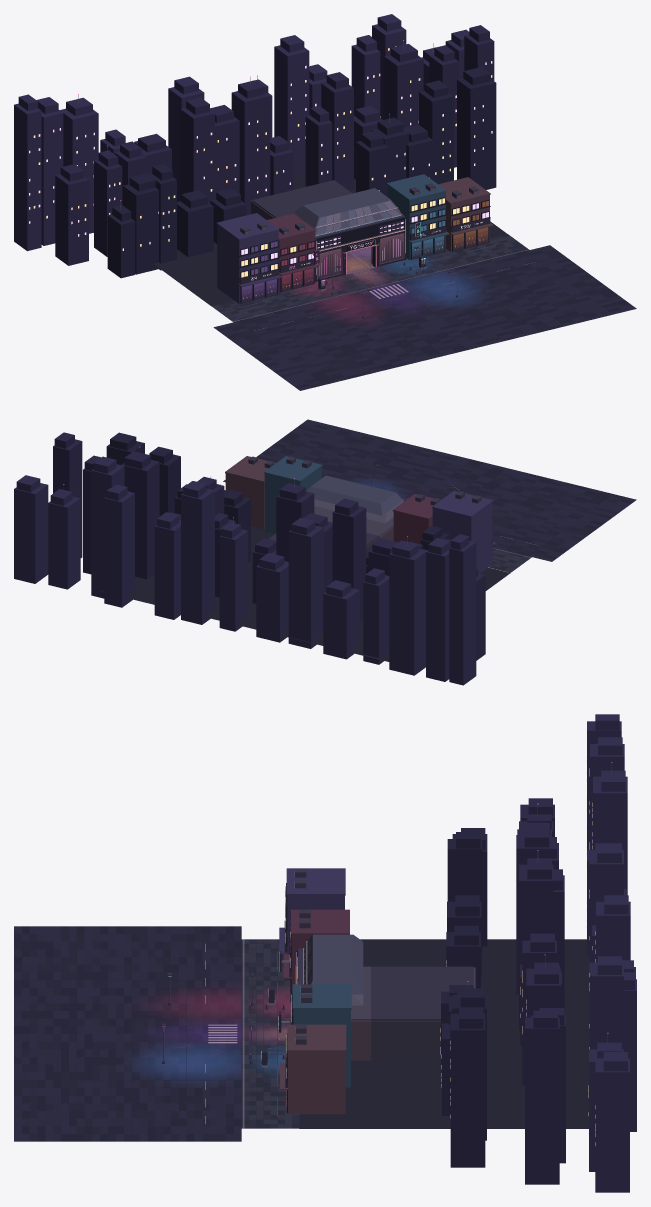
3 views of the same model, one above another, from view 1: azimuth 30°, elevation 25°; view 2: azimuth 150°, elevation 25°; view 3: azimuth 270°, elevation 25° (orthographic). The views are drawn at different scales.
Parts seen in each view (by area): view 1: 04 Skyline / Plaster and masonry, 01 Street / Glossy floor, 04 Skyline / Glazed enamel, 01 Street / Plaster and masonry, 01 Street / Glazed enamel, 01 Street / Tinted mirror, 01 Street / Brushed metal, 03 Dance studio / Plaster and masonry, 01 Street / Amber window; view 2: 04 Skyline / Plaster and masonry, 01 Street / Glossy floor, 01 Street / Plaster and masonry, 04 Skyline / Glazed enamel, 01 Street / Glazed enamel, 02 Lobby / Plaster and masonry; view 3: 01 Street / Glossy floor, 04 Skyline / Plaster and masonry, 01 Street / Plaster and masonry, 04 Skyline / Glazed enamel, 03 Dance studio / Plaster and masonry, 01 Street / Glazed enamel, 01 Street / Brushed metal, 02 Lobby / Plaster and masonry.
Part boxes in pixels (<box>): 04 Skyline / Plaster and masonry: <box>14,24,496,278</box>; 01 Street / Glossy floor: <box>153,173,636,390</box>; 04 Skyline / Glazed enamel: <box>18,14,490,221</box>; 01 Street / Plaster and masonry: <box>216,174,490,317</box>; 01 Street / Glazed enamel: <box>239,188,490,303</box>; 01 Street / Tinted mirror: <box>241,201,488,301</box>; 01 Street / Brushed metal: <box>238,188,495,315</box>; 03 Dance studio / Plaster and masonry: <box>251,180,352,219</box>; 01 Street / Amber window: <box>241,198,469,277</box>; 04 Skyline / Plaster and masonry: <box>14,439,485,685</box>; 01 Street / Glossy floor: <box>99,419,636,661</box>; 01 Street / Plaster and masonry: <box>225,456,493,573</box>; 04 Skyline / Glazed enamel: <box>16,432,478,597</box>; 01 Street / Glazed enamel: <box>306,464,493,543</box>; 02 Lobby / Plaster and masonry: <box>314,506,393,540</box>; 01 Street / Glossy floor: <box>14,926,589,1141</box>; 04 Skyline / Plaster and masonry: <box>441,721,636,1192</box>; 01 Street / Plaster and masonry: <box>162,868,351,1114</box>; 04 Skyline / Glazed enamel: <box>449,714,634,1071</box>; 03 Dance studio / Plaster and masonry: <box>371,966,475,1060</box>; 01 Street / Glazed enamel: <box>161,891,363,1113</box>; 01 Street / Brushed metal: <box>163,871,307,1116</box>; 02 Lobby / Plaster and masonry: <box>351,966,371,1060</box>.
Size of the model in its own units: 67.78 by 20.47 by 61.12.
